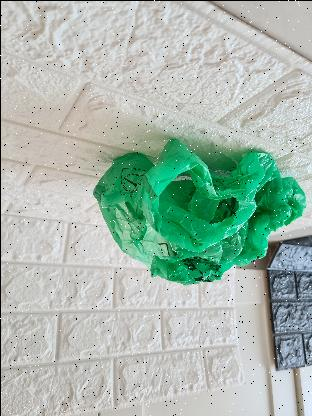Others: (92, 140, 302, 288)
